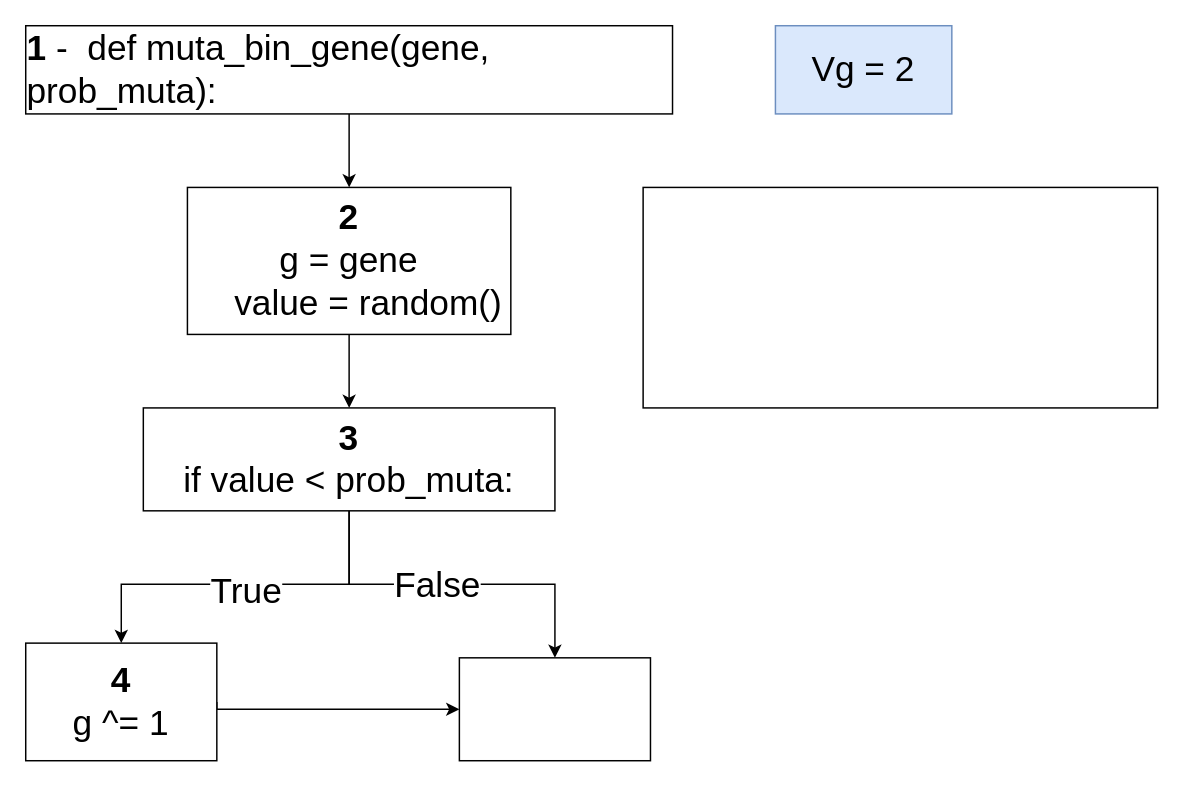
The diagram is 1183 pixels wide and 786 high, and some of its shapes have lost their labels. The centre of each missing label's shape, as x and y in pixels:
"5 return g" belongs at point 554,708.
"Paths P1 = {1, 2, 3, 5} P2 = {1, 2, 3, 4, 5 }" belongs at point 900,297.
